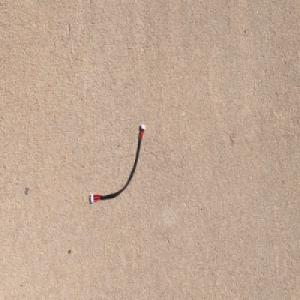Wire: (89, 122, 146, 205)
